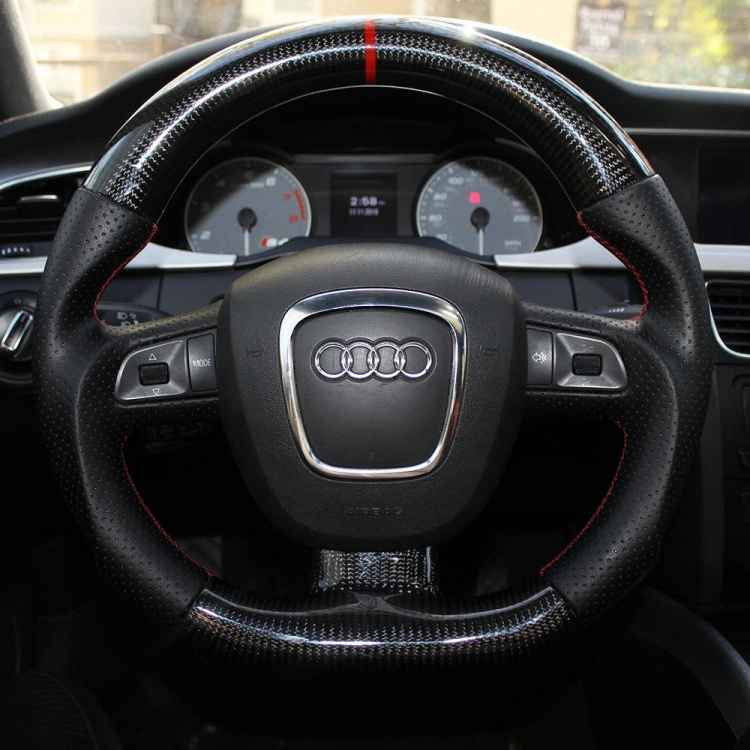audi: (307, 335, 438, 389)
